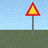sign: (25, 2, 40, 35)
